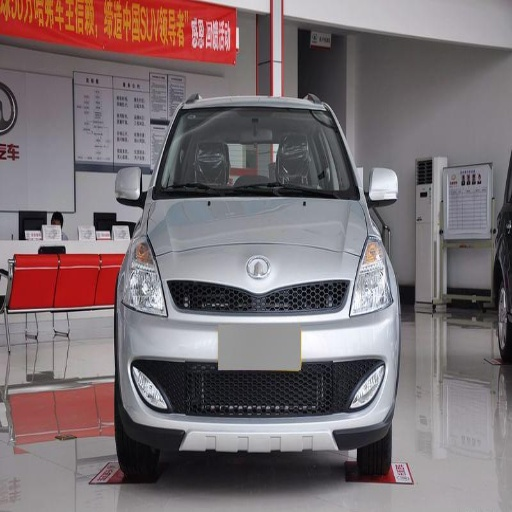front_bumper: (120, 252, 396, 451)
front_right_light: (122, 239, 167, 316)
hood: (148, 196, 369, 284)
left_mirror: (367, 168, 398, 207)
